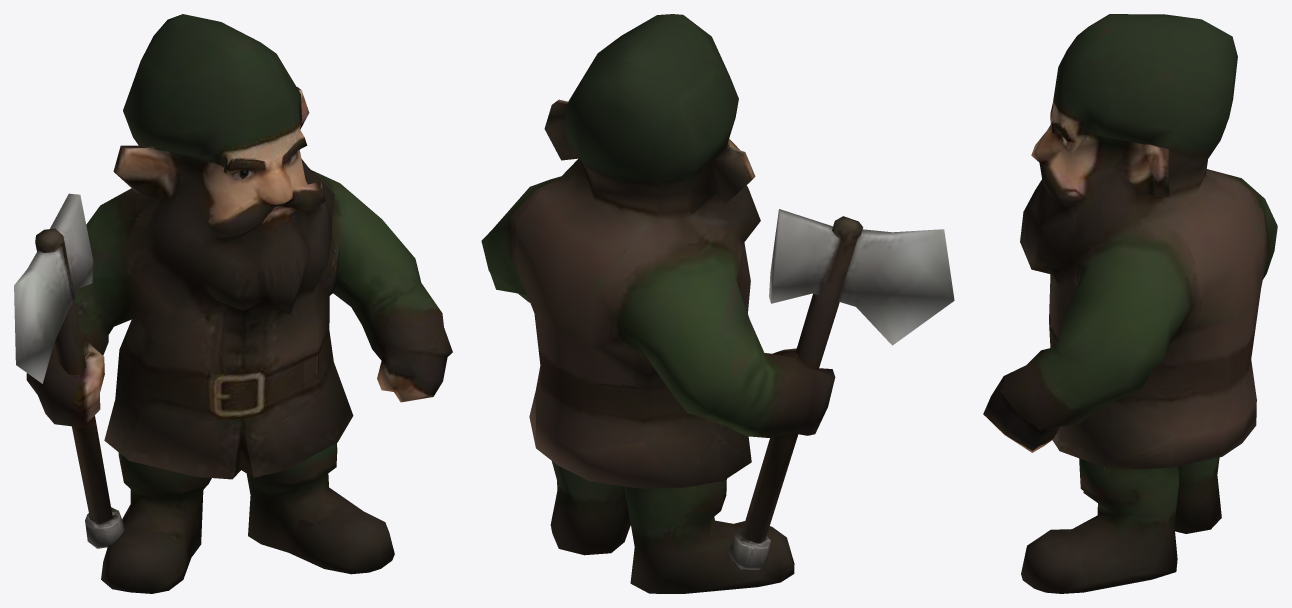
File: dwarf.glb
The picture shows the model from 3 angles, left to right: view 1: azimuth 30°, elevation 25°; view 2: azimuth 150°, elevation 25°; view 3: azimuth 270°, elevation 25°; orthographic projection. The views are drawn at different scales.
Visible parts, largest first — view 1: tripo_node_c6f9c231-f76b-47b3-b71c-e11ac4119e33; view 2: tripo_node_c6f9c231-f76b-47b3-b71c-e11ac4119e33; view 3: tripo_node_c6f9c231-f76b-47b3-b71c-e11ac4119e33.
Part boxes in pixels (x1=…): tripo_node_c6f9c231-f76b-47b3-b71c-e11ac4119e33: x1=14, y1=14, x2=452, y2=593; tripo_node_c6f9c231-f76b-47b3-b71c-e11ac4119e33: x1=481, y1=14, x2=954, y2=593; tripo_node_c6f9c231-f76b-47b3-b71c-e11ac4119e33: x1=983, y1=14, x2=1277, y2=593.
Bounding box in the file's own units: 0.8562 × 1 × 0.5151.
1 material, 1 textured.
